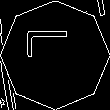L_E: (30, 40, 80, 70)
